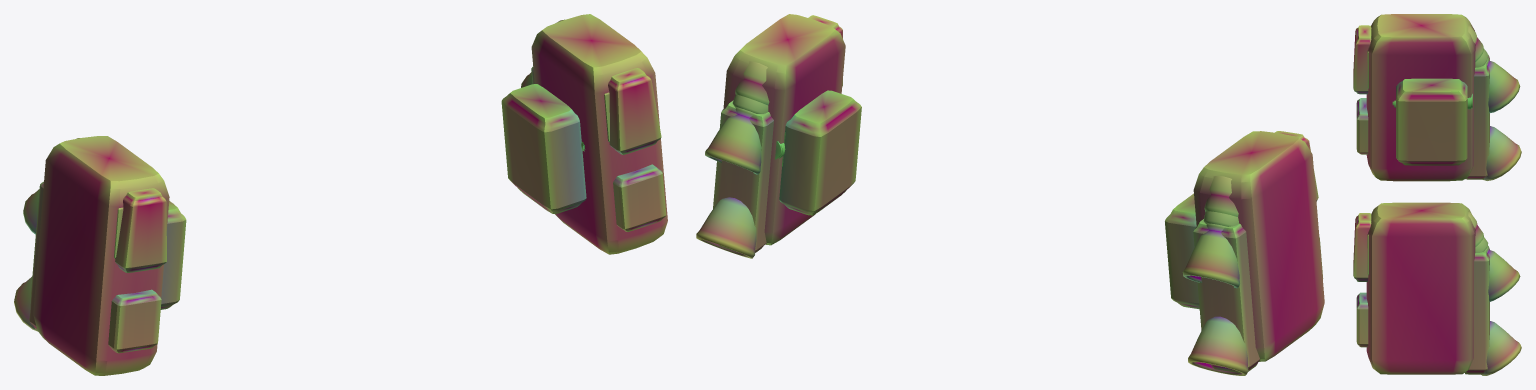
The model's file is llm_gen_leg_thrusters_107_3b386f.glb.
The picture shows the model from 3 angles, left to right: view 1: azimuth 30°, elevation 25°; view 2: azimuth 150°, elevation 25°; view 3: azimuth 270°, elevation 25°; orthographic projection. The views are drawn at different scales.
Visible parts, largest first — view 1: outer_shin_armor_0_wing_white_l, outer_shin_armor_0_wing_white_r, adapter_calf_clamp_r, knee_guard_blade_2_gold_l, knee_guard_blade_2_gold_r, lower_shin_bumper_4_crimson_gloss_l, lower_shin_bumper_4_crimson_gloss_r, adapter_calf_clamp_l, rear_thruster_manifold_dark_5_adapter_dark_l, rear_surge_bell_bot_7_vernier_bell_vernier_l; view 2: outer_shin_armor_0_wing_white_l, outer_shin_armor_0_wing_white_r, adapter_calf_clamp_r, rear_thruster_manifold_dark_5_adapter_dark_l, rear_thruster_manifold_dark_5_adapter_dark_r, adapter_calf_clamp_l, rear_surge_bell_bot_7_vernier_bell_vernier_l, rear_surge_bell_bot_7_vernier_bell_vernier_r, rear_surge_bell_top_6_vernier_bell_vernier_r, rear_surge_bell_top_6_vernier_bell_vernier_l, rear_surge_bell_top_6_vernier_bell_gimbal_collar_dark_r, rear_surge_bell_top_6_vernier_bell_gimbal_collar_dark_l; view 3: outer_shin_armor_0_wing_white_r, outer_shin_armor_0_wing_white_l, adapter_calf_clamp_l, rear_thruster_manifold_dark_5_adapter_dark_r, rear_thruster_manifold_dark_5_adapter_dark_l, rear_surge_bell_bot_7_vernier_bell_vernier_l, rear_surge_bell_bot_7_vernier_bell_vernier_r, rear_surge_bell_top_6_vernier_bell_vernier_l, rear_surge_bell_top_6_vernier_bell_vernier_r, knee_guard_blade_2_gold_l, knee_guard_blade_2_gold_r, lower_shin_bumper_4_crimson_gloss_l (+3 smaller).
Part boxes in pixels (<box>): outer_shin_armor_0_wing_white_l: <box>33,136,169,375</box>; outer_shin_armor_0_wing_white_r: <box>531,14,667,254</box>; adapter_calf_clamp_r: <box>501,84,586,213</box>; knee_guard_blade_2_gold_l: <box>115,188,166,272</box>; knee_guard_blade_2_gold_r: <box>608,68,661,154</box>; lower_shin_bumper_4_crimson_gloss_l: <box>108,289,161,353</box>; lower_shin_bumper_4_crimson_gloss_r: <box>613,164,666,231</box>; adapter_calf_clamp_l: <box>160,201,186,309</box>; rear_thruster_manifold_dark_5_adapter_dark_l: <box>29,181,43,331</box>; rear_surge_bell_bot_7_vernier_bell_vernier_l: <box>14,276,36,330</box>; outer_shin_armor_0_wing_white_l: <box>1193,131,1324,361</box>; outer_shin_armor_0_wing_white_r: <box>723,14,845,245</box>; adapter_calf_clamp_r: <box>779,90,861,215</box>; rear_thruster_manifold_dark_5_adapter_dark_l: <box>1193,219,1260,372</box>; rear_thruster_manifold_dark_5_adapter_dark_r: <box>713,100,773,252</box>; adapter_calf_clamp_l: <box>1165,193,1199,309</box>; rear_surge_bell_bot_7_vernier_bell_vernier_l: <box>1188,316,1248,375</box>; rear_surge_bell_bot_7_vernier_bell_vernier_r: <box>696,197,756,258</box>; rear_surge_bell_top_6_vernier_bell_vernier_r: <box>705,106,761,174</box>; rear_surge_bell_top_6_vernier_bell_vernier_l: <box>1182,223,1239,288</box>; rear_surge_bell_top_6_vernier_bell_gimbal_collar_dark_r: <box>735,61,769,105</box>; rear_surge_bell_top_6_vernier_bell_gimbal_collar_dark_l: <box>1204,176,1238,216</box>; outer_shin_armor_0_wing_white_r: <box>1366,202,1475,374</box>; outer_shin_armor_0_wing_white_l: <box>1366,14,1475,181</box>; adapter_calf_clamp_l: <box>1396,78,1467,165</box>; rear_thruster_manifold_dark_5_adapter_dark_r: <box>1465,247,1489,374</box>; rear_thruster_manifold_dark_5_adapter_dark_l: <box>1465,54,1489,179</box>; rear_surge_bell_bot_7_vernier_bell_vernier_l: <box>1483,126,1521,180</box>; rear_surge_bell_bot_7_vernier_bell_vernier_r: <box>1481,321,1521,375</box>; rear_surge_bell_top_6_vernier_bell_vernier_l: <box>1484,57,1520,113</box>; rear_surge_bell_top_6_vernier_bell_vernier_r: <box>1485,246,1520,301</box>; knee_guard_blade_2_gold_l: <box>1353,25,1371,94</box>; knee_guard_blade_2_gold_r: <box>1353,213,1371,281</box>; lower_shin_bumper_4_crimson_gloss_l: <box>1356,98,1368,154</box>.
Bounding box in the file's own units: 80.15 × 26.84 × 25.87.
